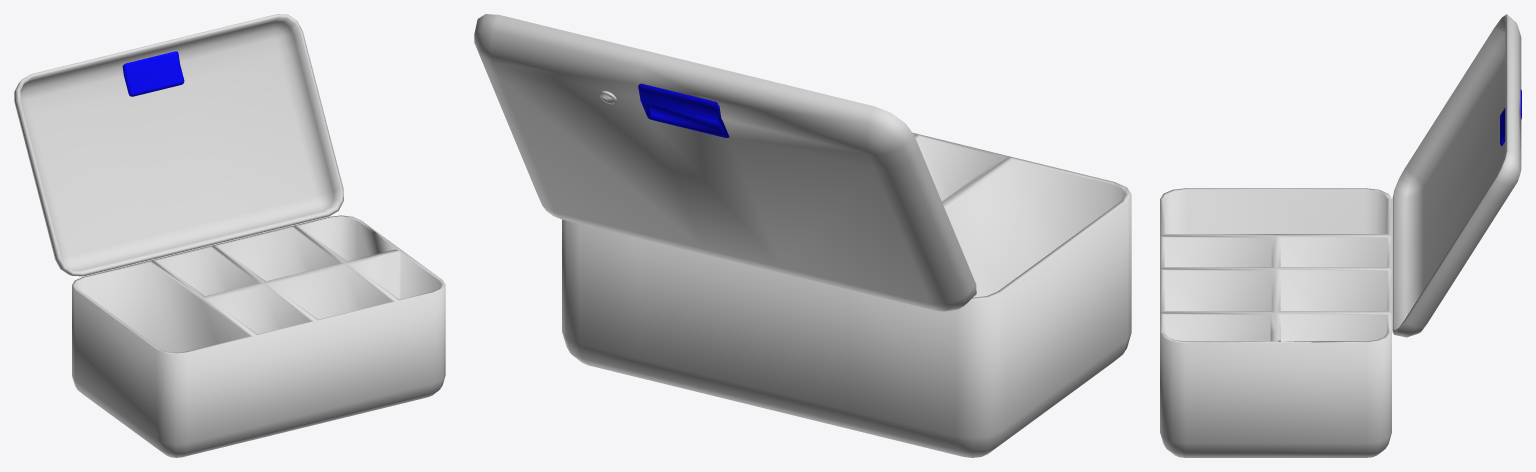
File: Botiquin3.fbx
3 views of the same model, side by side, from view 1: azimuth 30°, elevation 25°; view 2: azimuth 150°, elevation 25°; view 3: azimuth 270°, elevation 25° (orthographic). The views are drawn at different scales.
Parts seen in each view (by area): view 1: botiquinBase, tapa, BotiquinManilla; view 2: botiquinBase, tapa, BotiquinManilla; view 3: botiquinBase, tapa.
Boxes of the visible parts, x1,y1,x2,y2 form: botiquinBase: (72, 215, 445, 457); tapa: (14, 14, 343, 276); BotiquinManilla: (122, 51, 184, 96); botiquinBase: (562, 133, 1131, 457); tapa: (474, 14, 976, 311); BotiquinManilla: (638, 83, 729, 137); botiquinBase: (1160, 188, 1391, 457); tapa: (1392, 14, 1521, 337).
Bounding box in the file's own units: 88.25 × 81.13 × 87.08.
